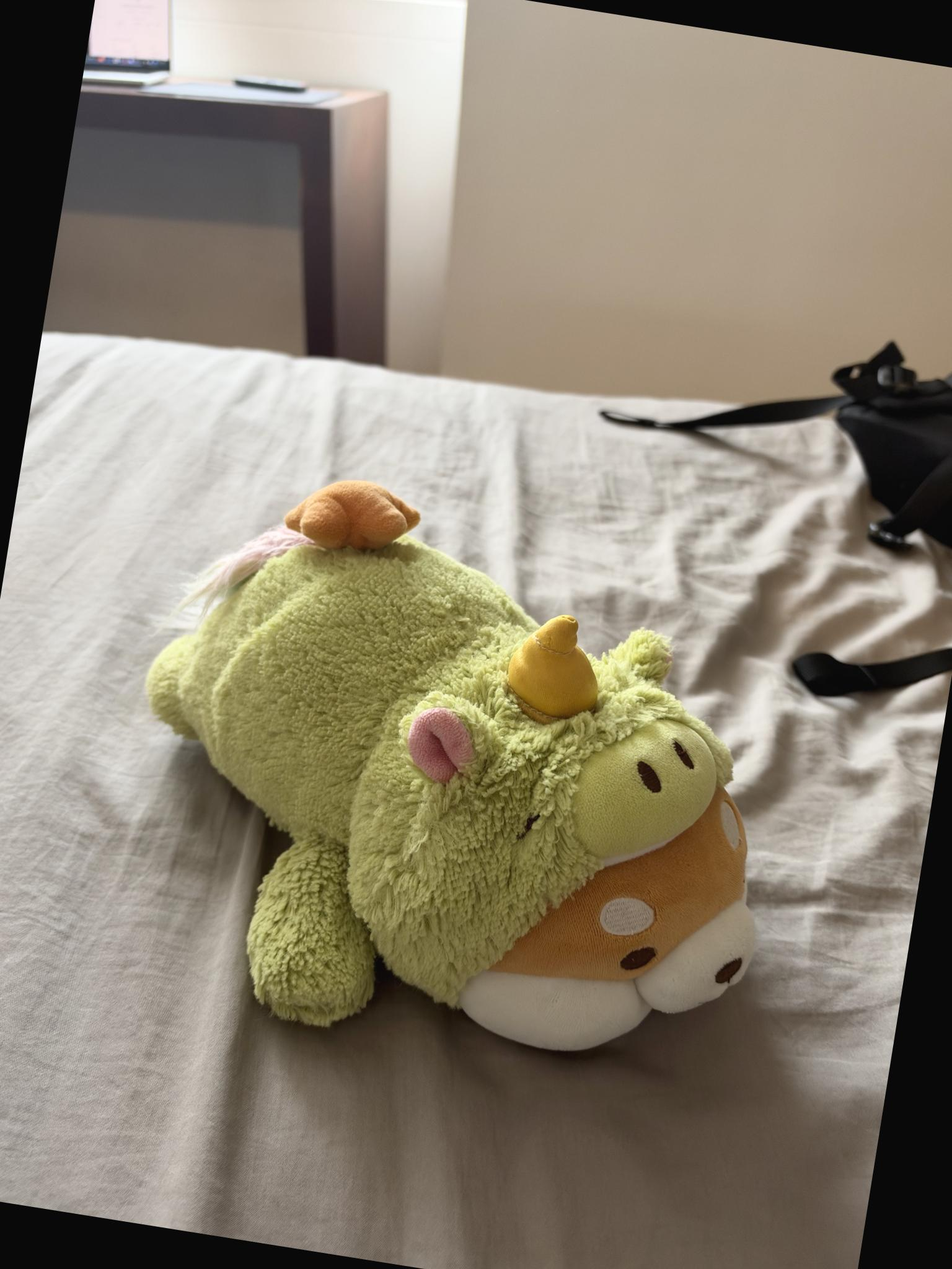peluche_martin: (92, 447, 821, 1096)
